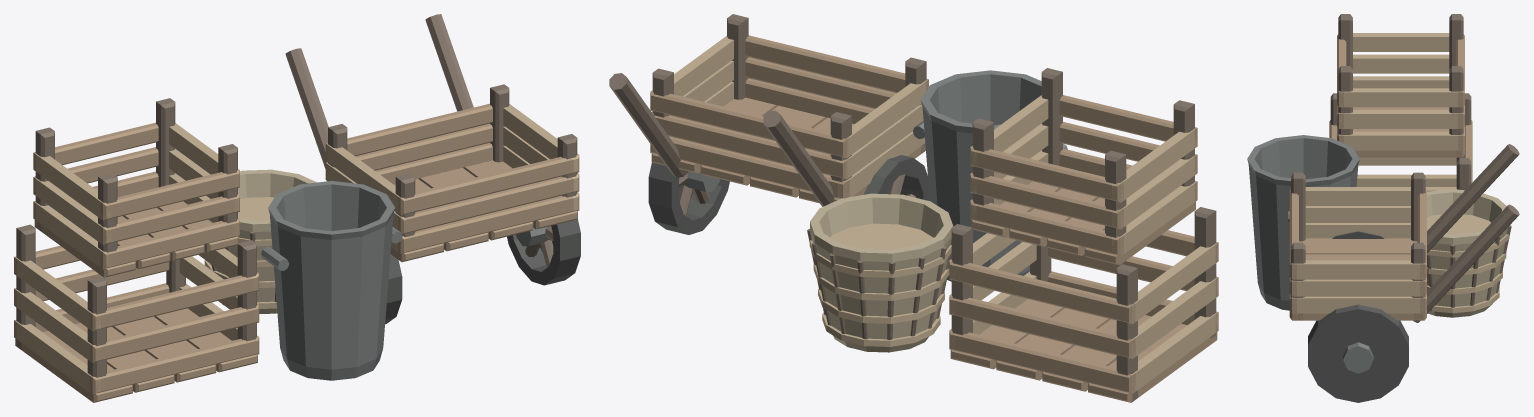
Rendered from Clutter.fbx.
3 views of the same model, side by side, from view 1: azimuth 30°, elevation 25°; view 2: azimuth 150°, elevation 25°; view 3: azimuth 270°, elevation 25° (orthographic). The views are drawn at different scales.
Parts seen in each view (by area): view 1: Body__Timber.006, Body__Steel.004, Body__TimberLight.005, Body__TimberDark.006, Body__Rubber.001, Body__Rope.001; view 2: Body__Timber.006, Body__TimberLight.005, Body__TimberDark.006, Body__Rope.001, Body__Steel.004, Body__Rubber.001; view 3: Body__TimberLight.005, Body__TimberDark.006, Body__Steel.004, Body__Timber.006, Body__Rubber.001, Body__Rope.001.
Part boxes in pixels (x1,y1,x2,y2): Body__Timber.006: [14, 103, 579, 402]; Body__Steel.004: [261, 181, 550, 380]; Body__TimberLight.005: [14, 104, 578, 394]; Body__TimberDark.006: [16, 14, 577, 377]; Body__Rubber.001: [385, 219, 580, 324]; Body__Rope.001: [210, 169, 316, 313]; Body__Timber.006: [650, 35, 1218, 402]; Body__TimberLight.005: [651, 36, 1218, 393]; Body__TimberDark.006: [609, 14, 1216, 401]; Body__Rope.001: [810, 193, 953, 352]; Body__Steel.004: [681, 70, 1067, 281]; Body__Rubber.001: [648, 155, 929, 234]; Body__TimberLight.005: [1289, 33, 1509, 313]; Body__TimberDark.006: [1291, 14, 1519, 322]; Body__Steel.004: [1247, 135, 1373, 373]; Body__Timber.006: [1289, 34, 1472, 320]; Body__Rubber.001: [1308, 231, 1408, 402]; Body__Rope.001: [1427, 189, 1508, 317].
Size of the model in its own units: 1.62 by 0.69 by 0.8948.
